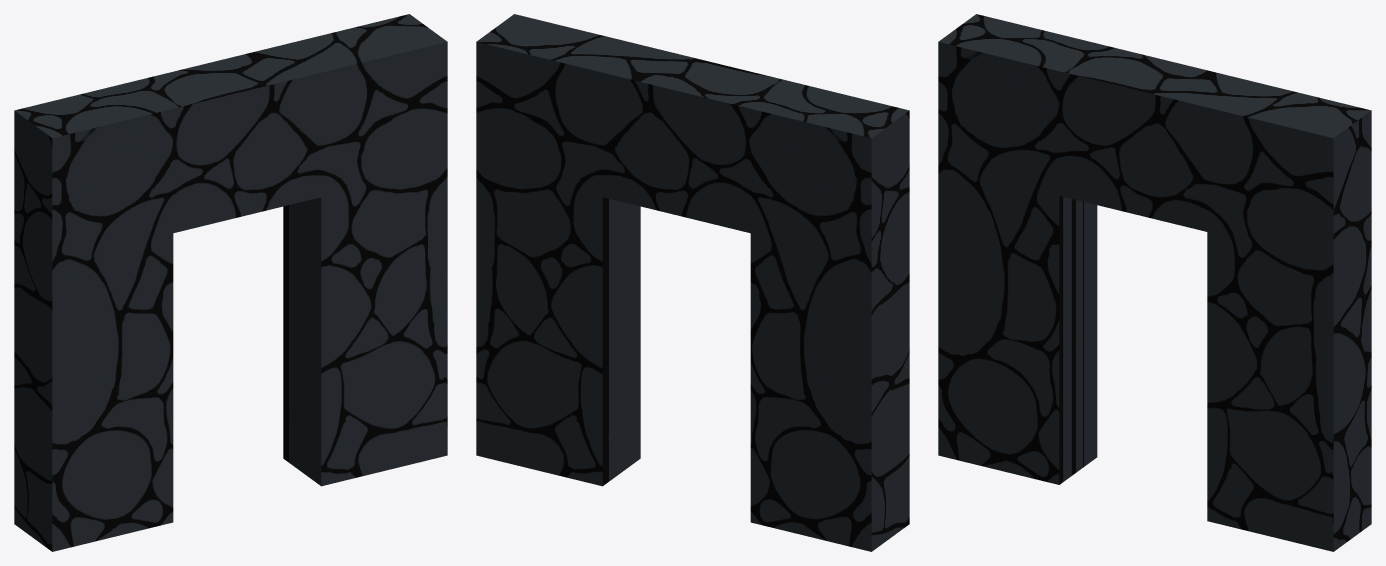
The model's file is DoorWall.fbx.
3 renders of one model, left to right at view 1: azimuth 30°, elevation 25°; view 2: azimuth 150°, elevation 25°; view 3: azimuth 330°, elevation 25°, orthographic.
Parts seen in each view (by area): view 1: Wall; view 2: Wall; view 3: Wall.
Part boxes in pixels (<box>): Wall: <box>14,14,447,551</box>; Wall: <box>476,14,909,551</box>; Wall: <box>938,14,1371,551</box>.
Bounding box in the file's own units: 300 × 300 × 50.
2 materials, 2 textured.
